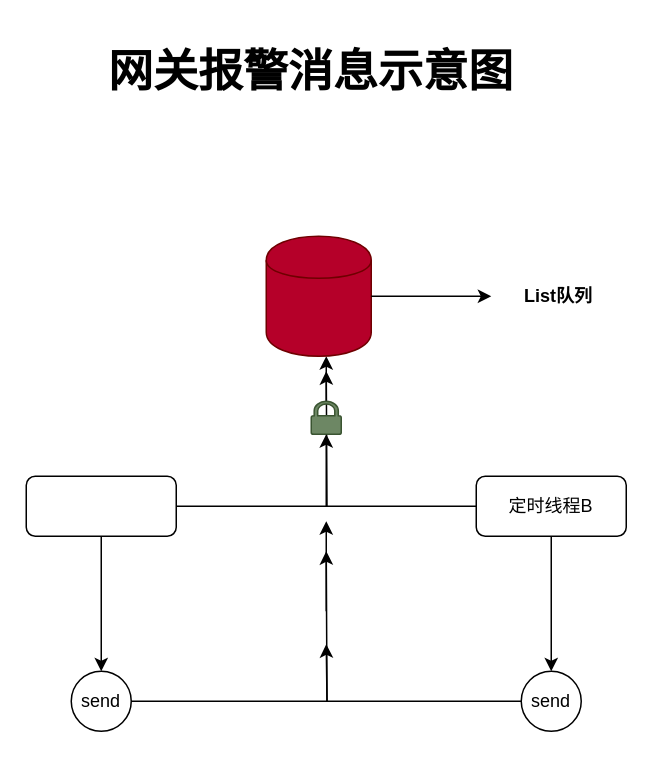
Some shapes in this 653 by 758 pixel diagram are drawn without their labels. Each missing label, with the box of its shape:
Redis: (265, 235, 371, 356)
定时线程A: (25, 475, 176, 536)
